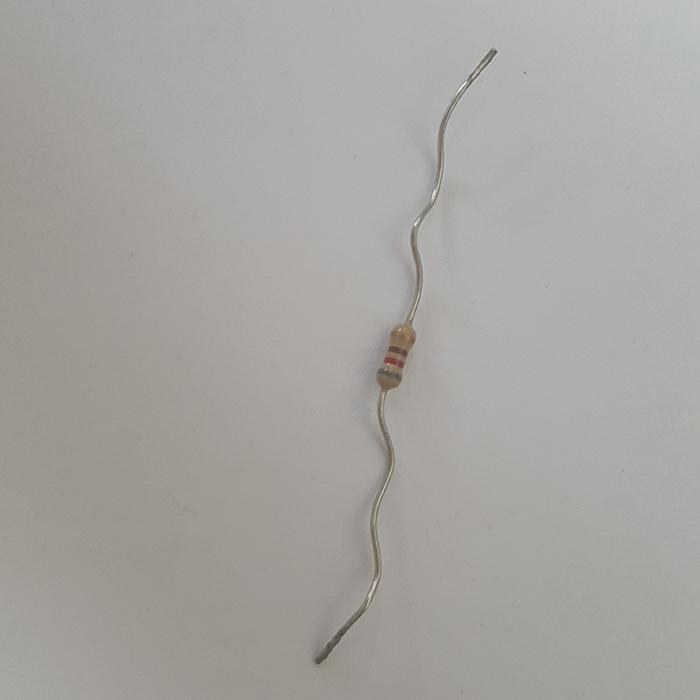resistor: (377, 321, 417, 391)
